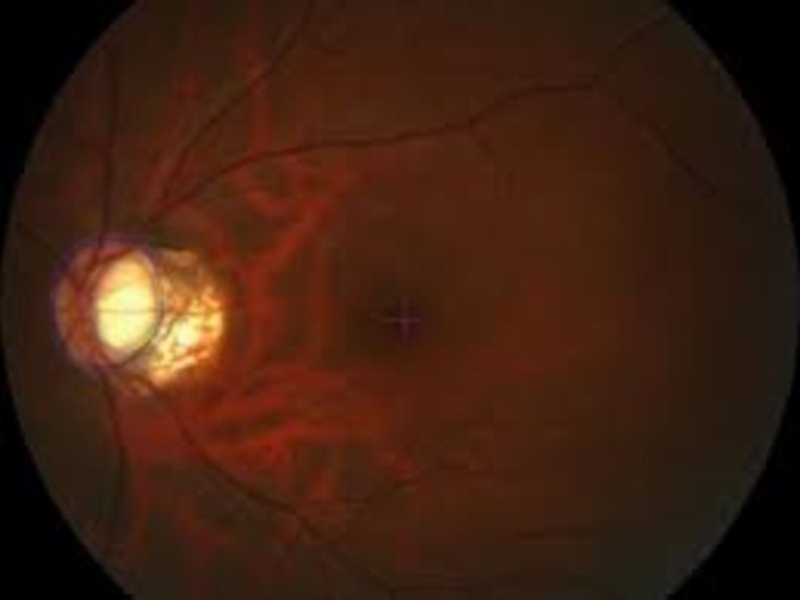Optic Cup: (97, 257, 157, 351)
Optic Disc: (47, 244, 164, 375)
